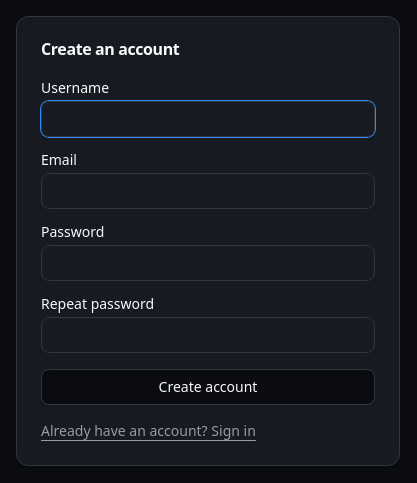
Test: RegisterPage › registers and shows the check-your-email message, without signing in
This screenshot has width=417, height=483.
Type "newperson" into the field labelled "Username" at (208, 119), box [41,101,375,137]
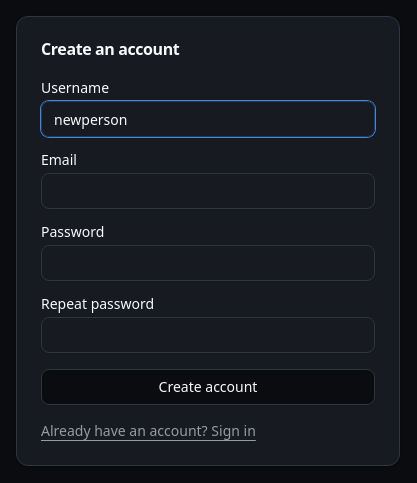
Type "newperson@example.com" into the field labelled "Email" at (208, 191), box [41,173,375,209]
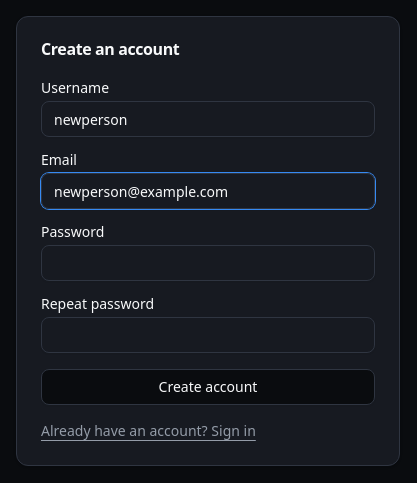
Type "correct-horse-1" into the password field labelled "Password" at (208, 263), box [41,245,375,281]
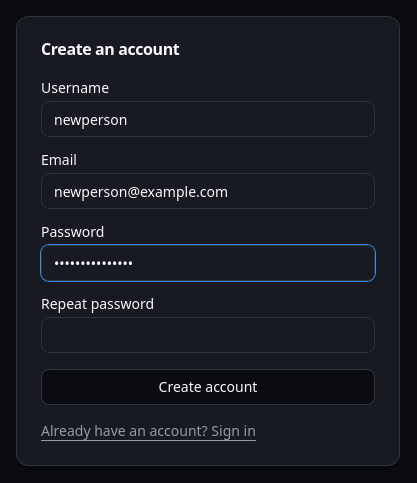
Type "correct-horse-1" into the password field labelled "Repeat password" at (208, 335), box [41,317,375,353]
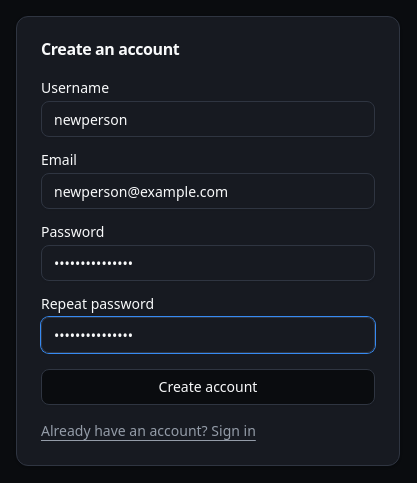
Click the button "Create account" at (208, 387), box [41,369,375,405]
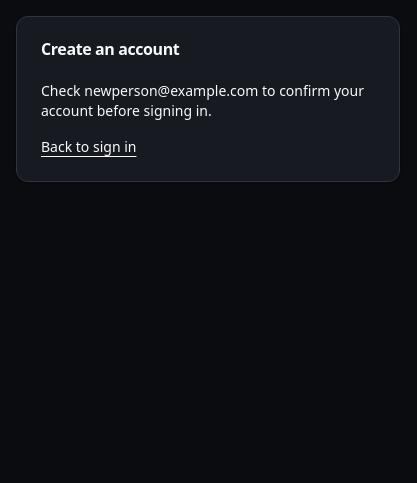
expect the text "Check newperson@example.com to confirm your account before signing in." is shown: met, box [41,81,375,121]
expect the label labelled "Username" is gone: met
